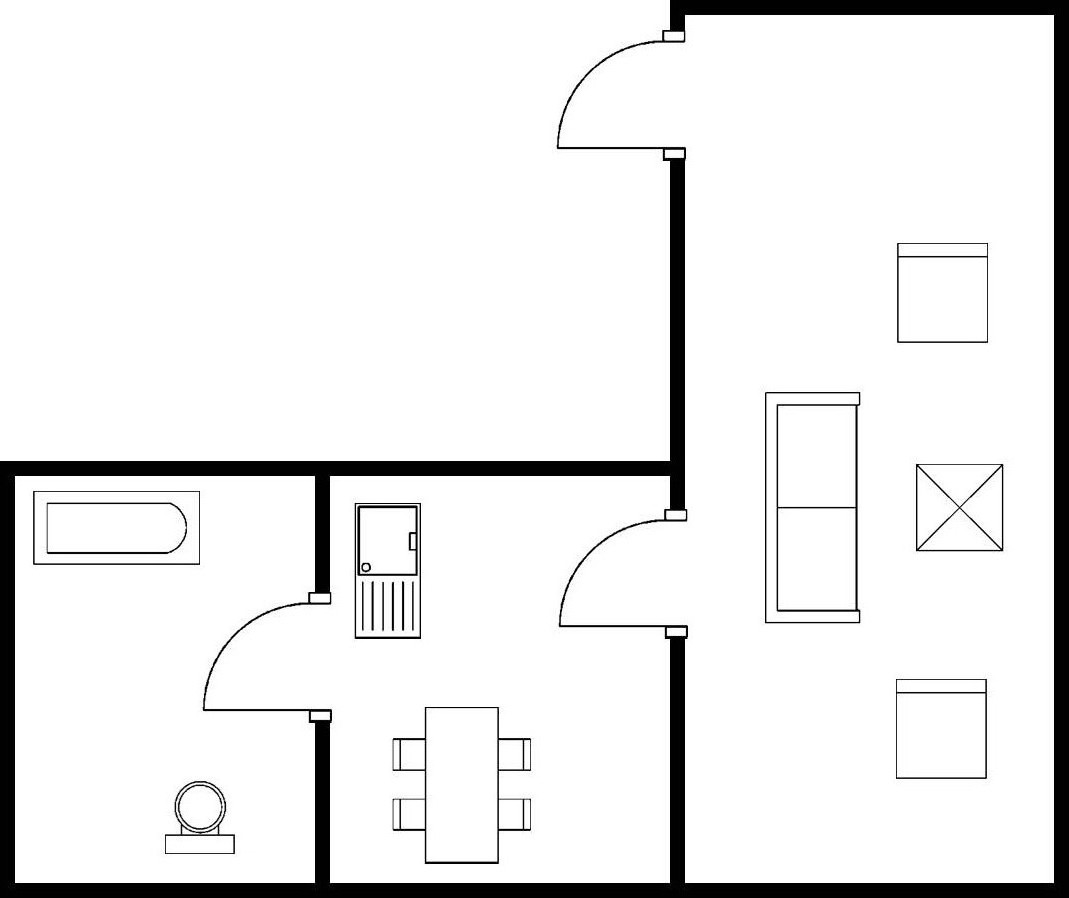coffee_table: (909, 460, 1007, 557)
dining_table: (389, 703, 538, 869)
large_sink: (160, 777, 240, 859)
large_sofa: (763, 388, 866, 630)
sink: (347, 496, 426, 642)
small_sofa: (887, 674, 993, 785), (890, 238, 994, 349)
tub: (27, 484, 210, 571)
